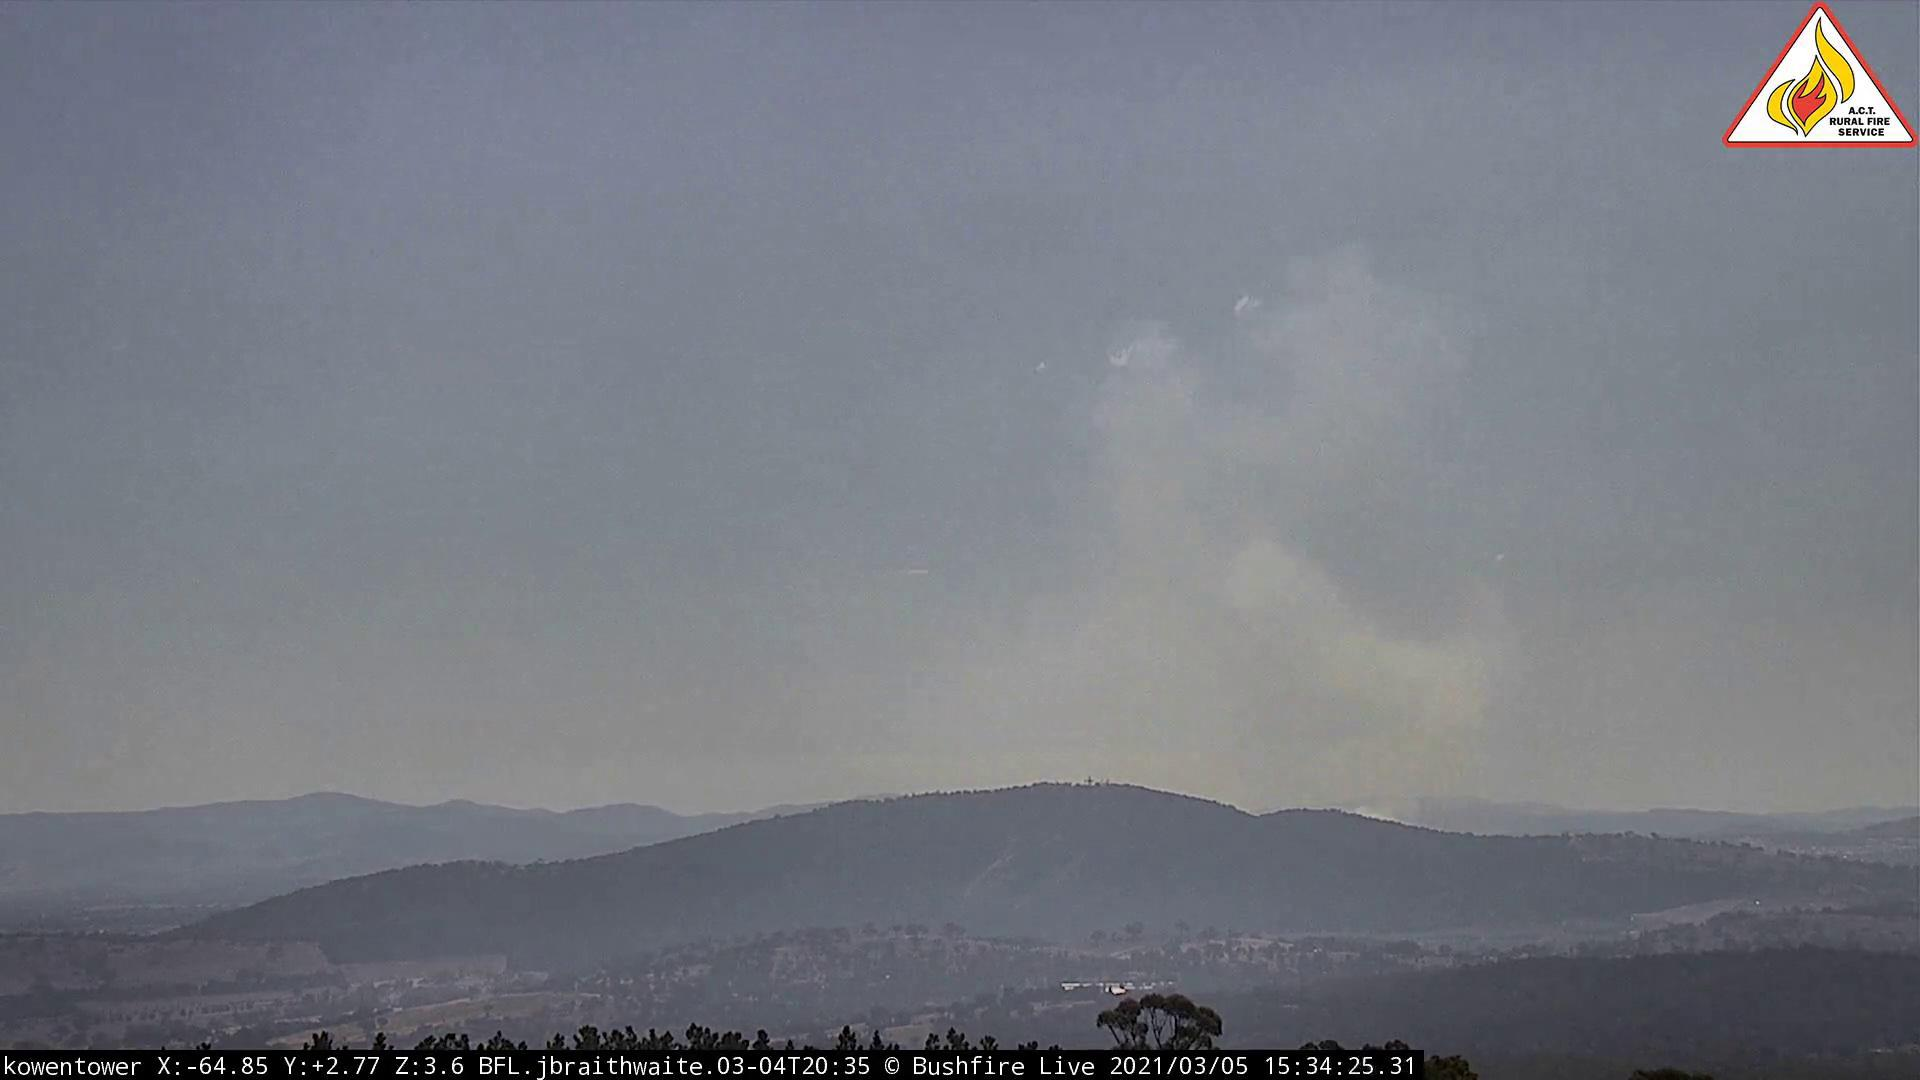Smoke: (882, 248, 1528, 843)
